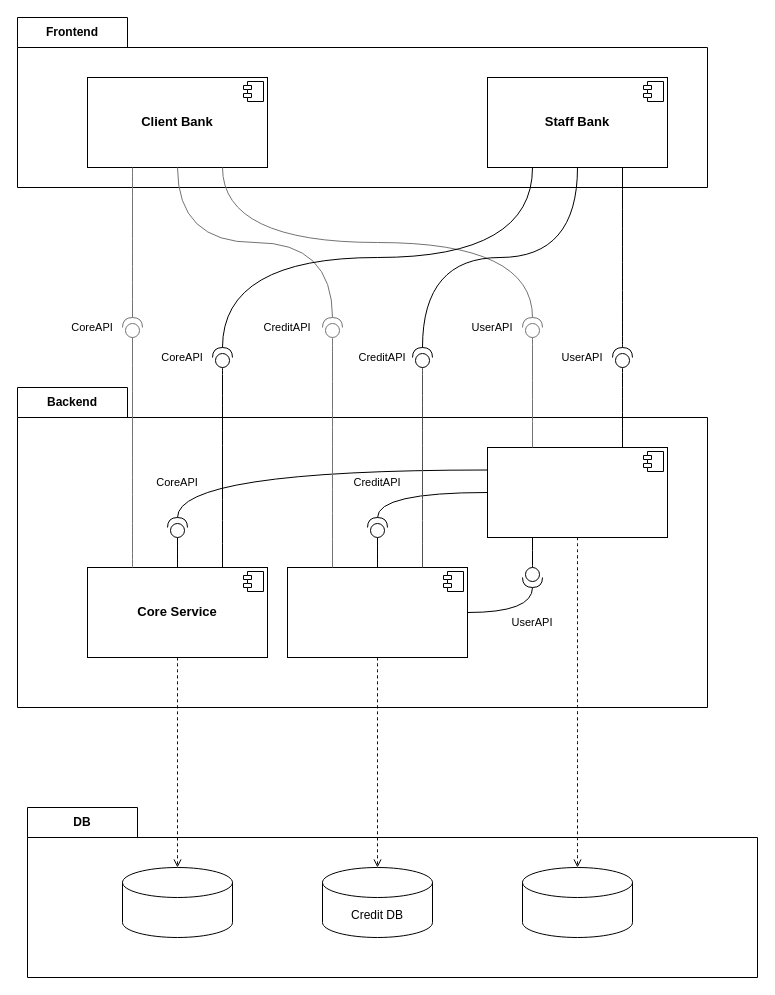
Some shapes in this 775 by 995 pixel diagram are drawn without their labels. The centre of each missing label's shape, as x and y in pixels:
"Core DB" belongs at point (177, 902).
"Credit Service" belongs at point (377, 612).
"User DB" belongs at point (577, 902).
"User Service" belongs at point (577, 492).
